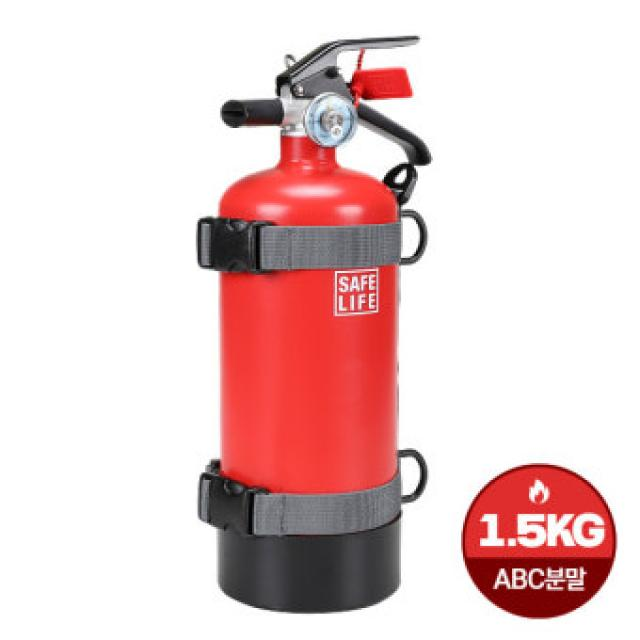pressure gauge: (305, 93, 357, 146)
